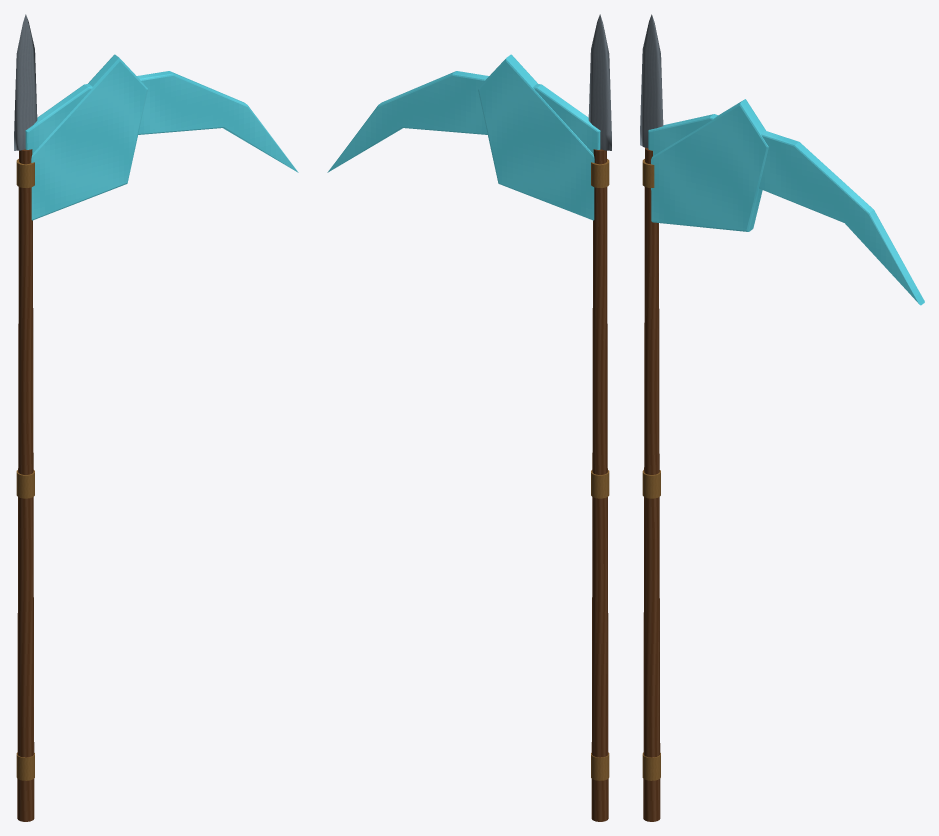
The model's file is crystal-scythe.lod1.glb.
The picture shows the model from 3 angles, left to right: view 1: azimuth 30°, elevation 25°; view 2: azimuth 150°, elevation 25°; view 3: azimuth 330°, elevation 25°; orthographic projection.
Visible parts, largest first — view 1: crystal.4, wood.0, crystal.5, blade; view 2: crystal.4, wood.0, crystal.5, blade; view 3: crystal.4, wood.0, crystal.5, blade.
Boxes of the visible parts, x1,y1,x2,y2 form: crystal.4: [31, 54, 147, 220]; wood.0: [17, 149, 34, 821]; crystal.5: [25, 71, 298, 172]; blade: [14, 14, 37, 150]; crystal.4: [478, 54, 594, 220]; wood.0: [591, 149, 608, 821]; crystal.5: [327, 71, 600, 172]; blade: [588, 14, 611, 150]; crystal.4: [651, 99, 768, 231]; wood.0: [643, 147, 660, 821]; crystal.5: [648, 114, 924, 305]; blade: [640, 14, 663, 147].
Size of the model in its own units: 0.8393 by 2.28 by 0.048.
Materials: 4 (4 with a texture image).
